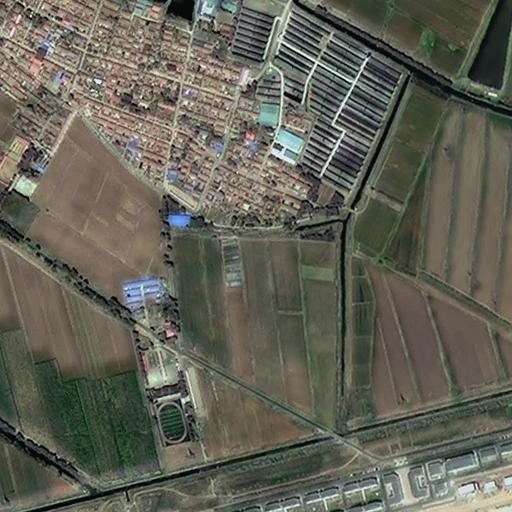school: (139, 338, 197, 452)
